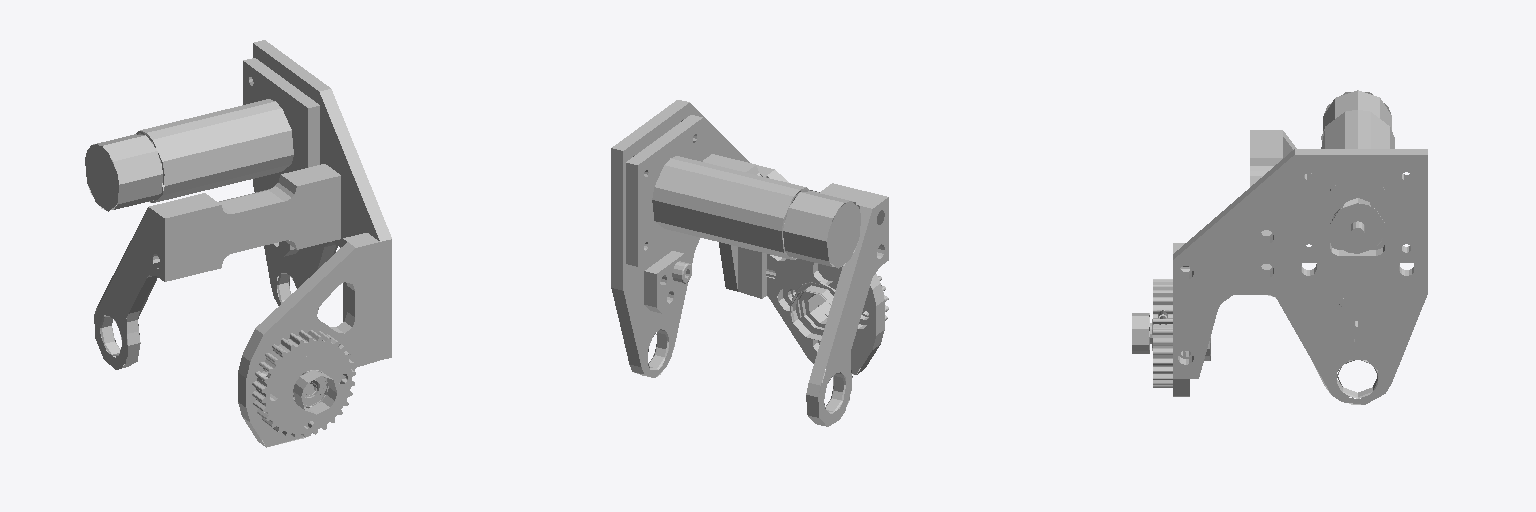
Rendered from eyer_1_joint.obj.
The picture shows the model from 3 angles: view 1: azimuth 30°, elevation 25°; view 2: azimuth 150°, elevation 25°; view 3: azimuth 270°, elevation 25°; orthographic projection.
Size of the model in its own units: 0.0569 by 0.067 by 0.0633.